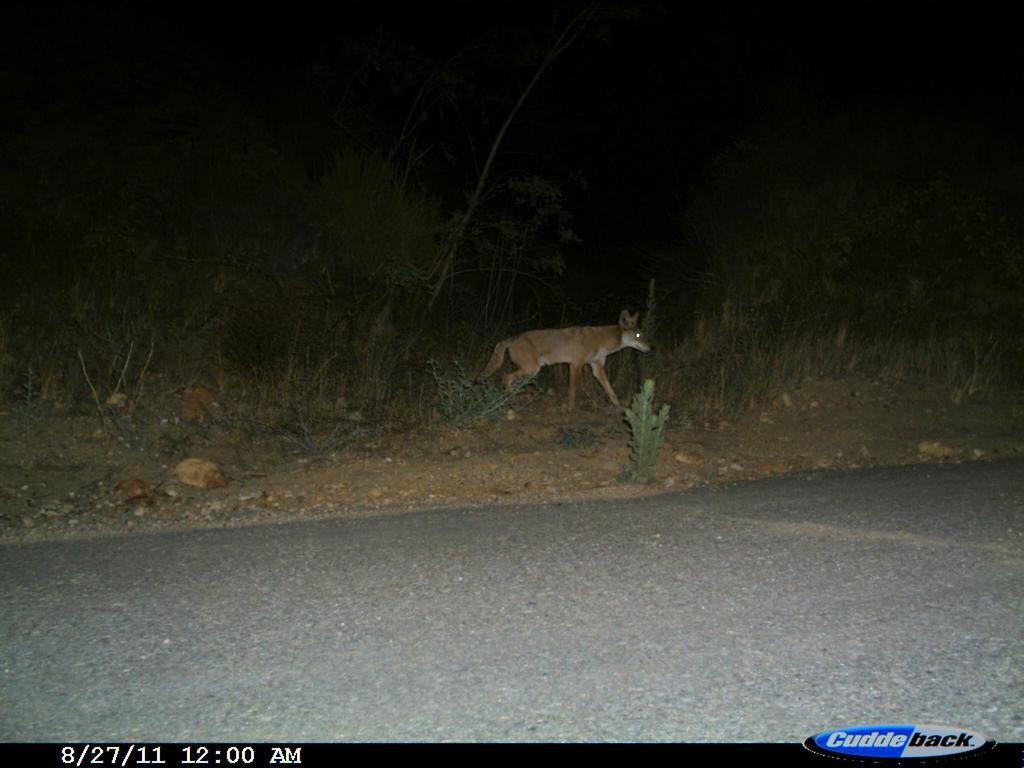coyote: (475, 305, 658, 415)
